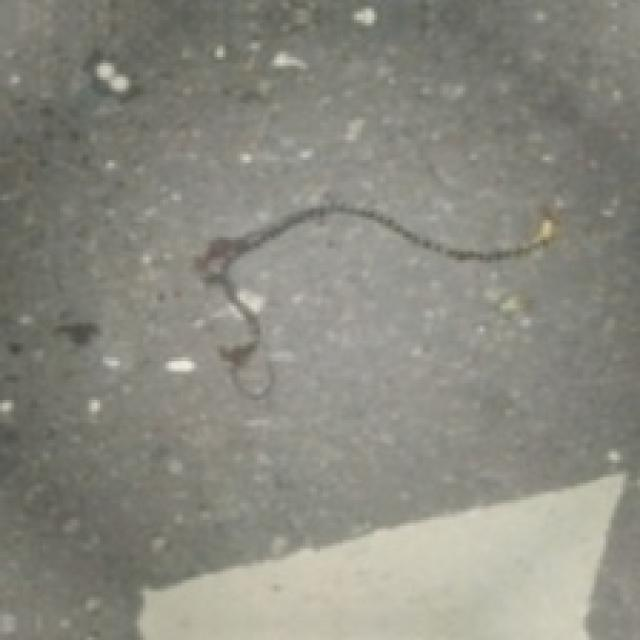mangrove cat snake: (194, 203, 557, 397)
